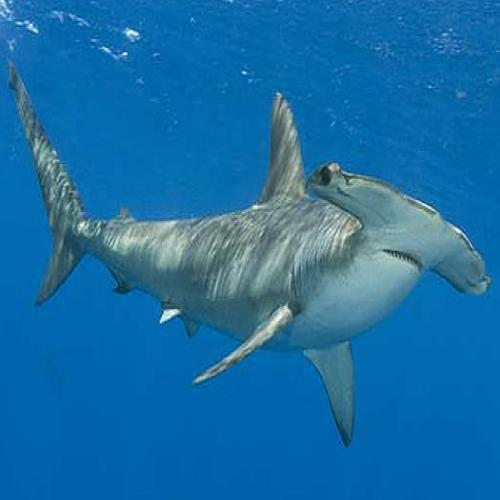shark-endangered: (9, 71, 492, 450)
